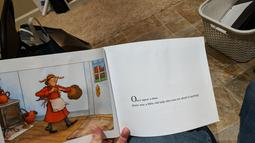text block: (127, 88, 200, 104)
